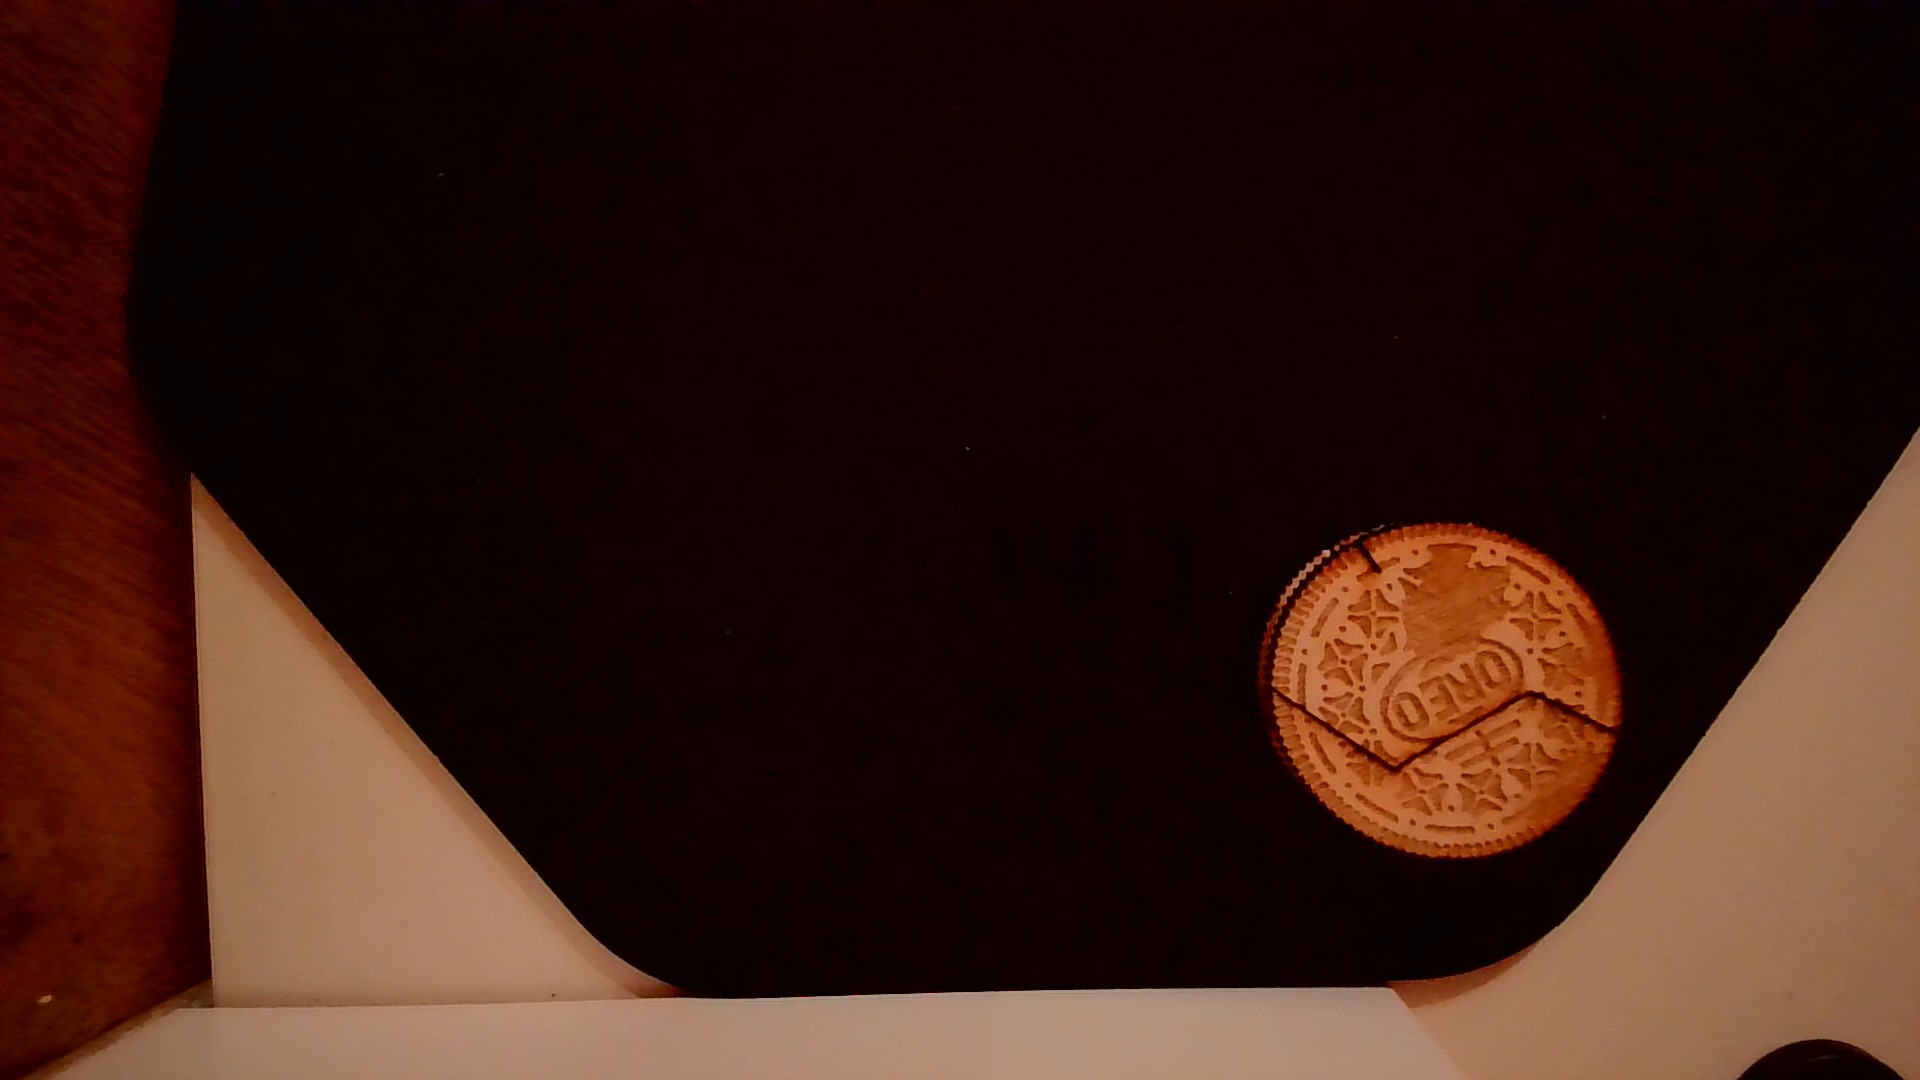Effacé: (1404, 546, 1498, 653), (1523, 741, 1597, 827), (1556, 626, 1621, 696)
Fissure: (1269, 680, 1629, 775), (1341, 535, 1396, 574)
Oréo: (1253, 513, 1629, 870)
